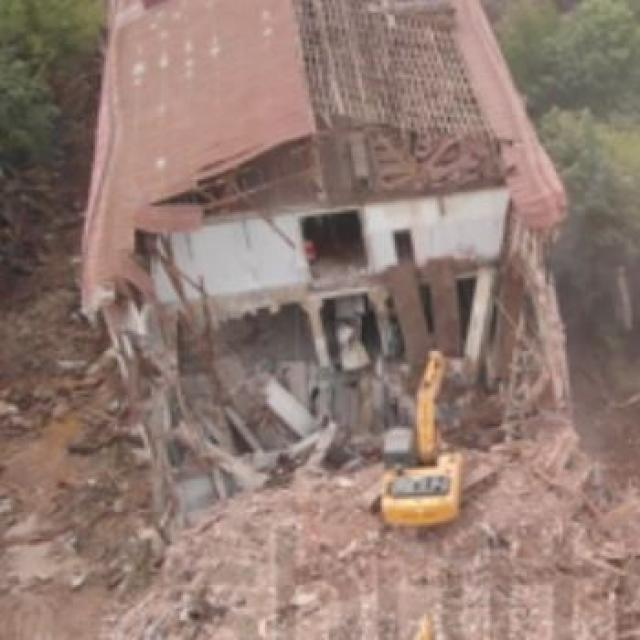collapsed_building: (90, 183, 565, 550)
